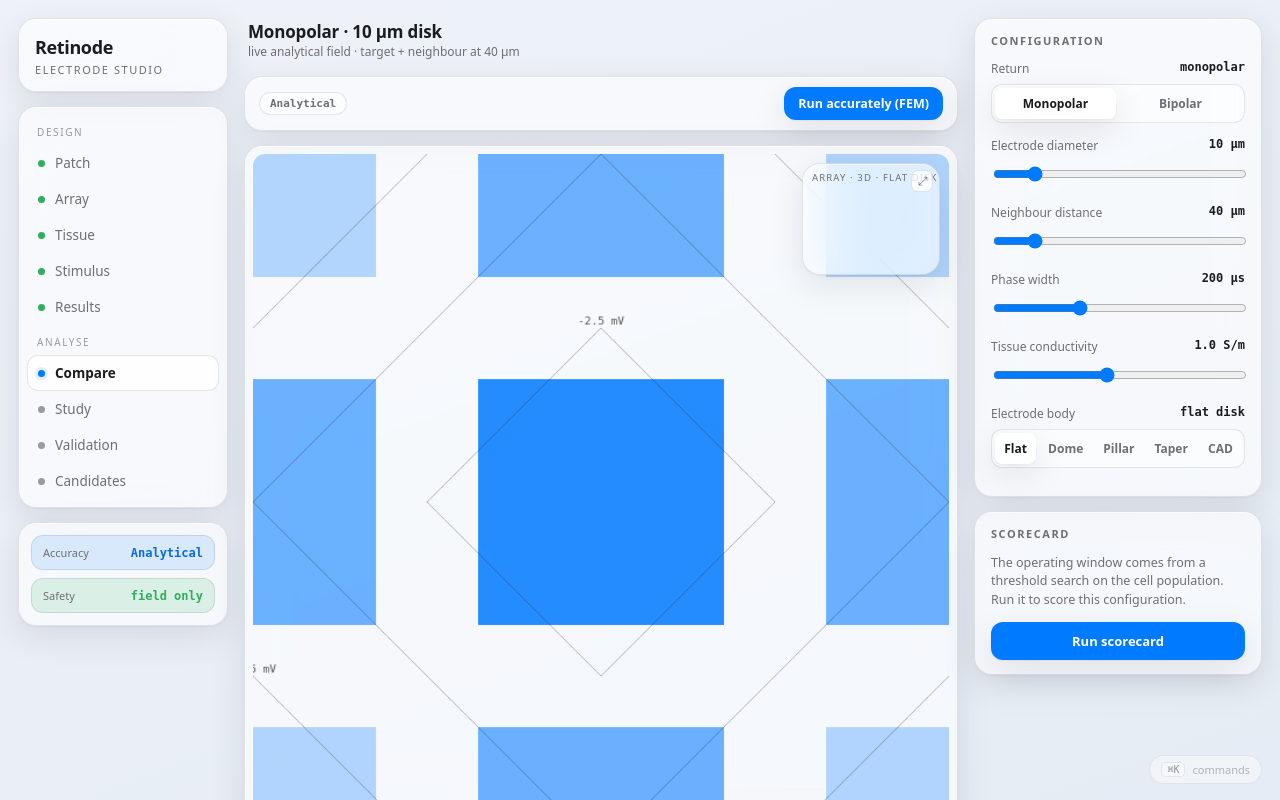
it: App navigation › carries a brushed subset of the sweep through to Candidates
Click the button "Study" at (123, 409), box [27,391,219,427]
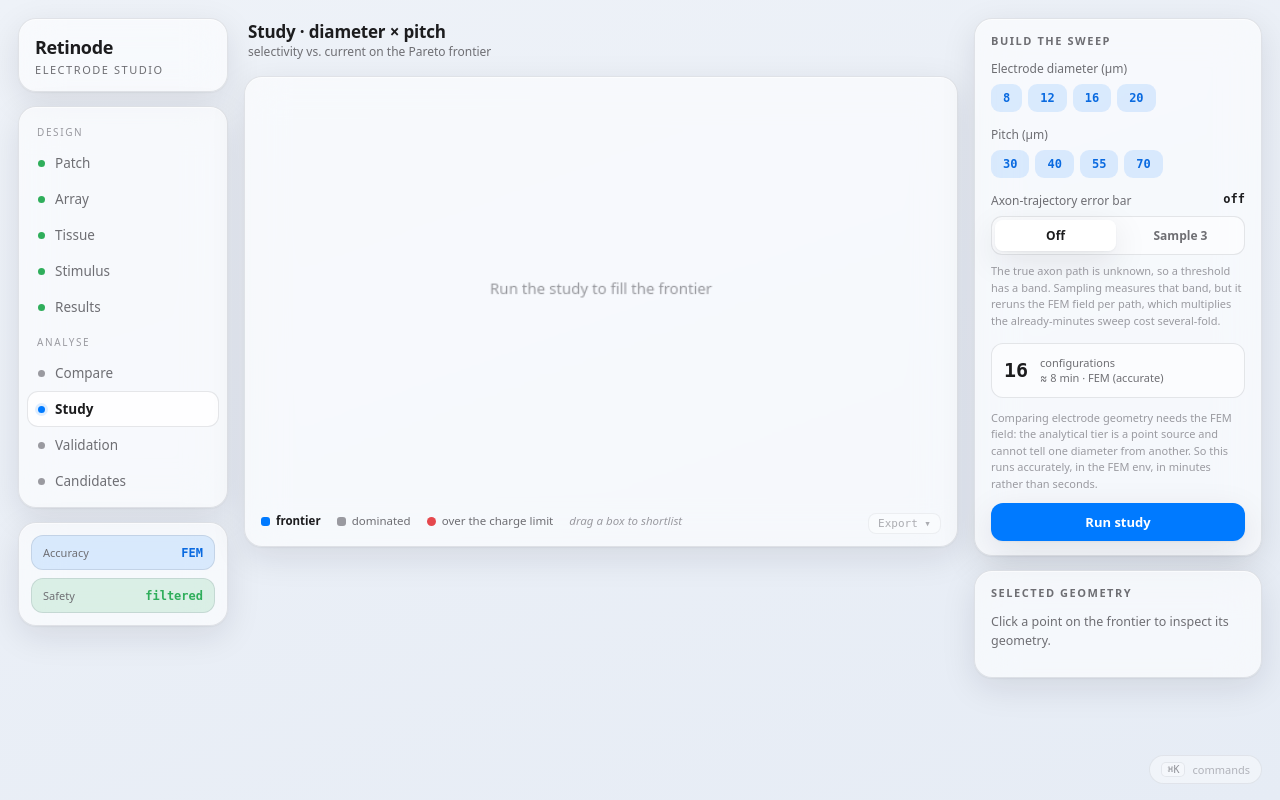
Click the button "Run study" at (1118, 522), box [991,503,1245,541]
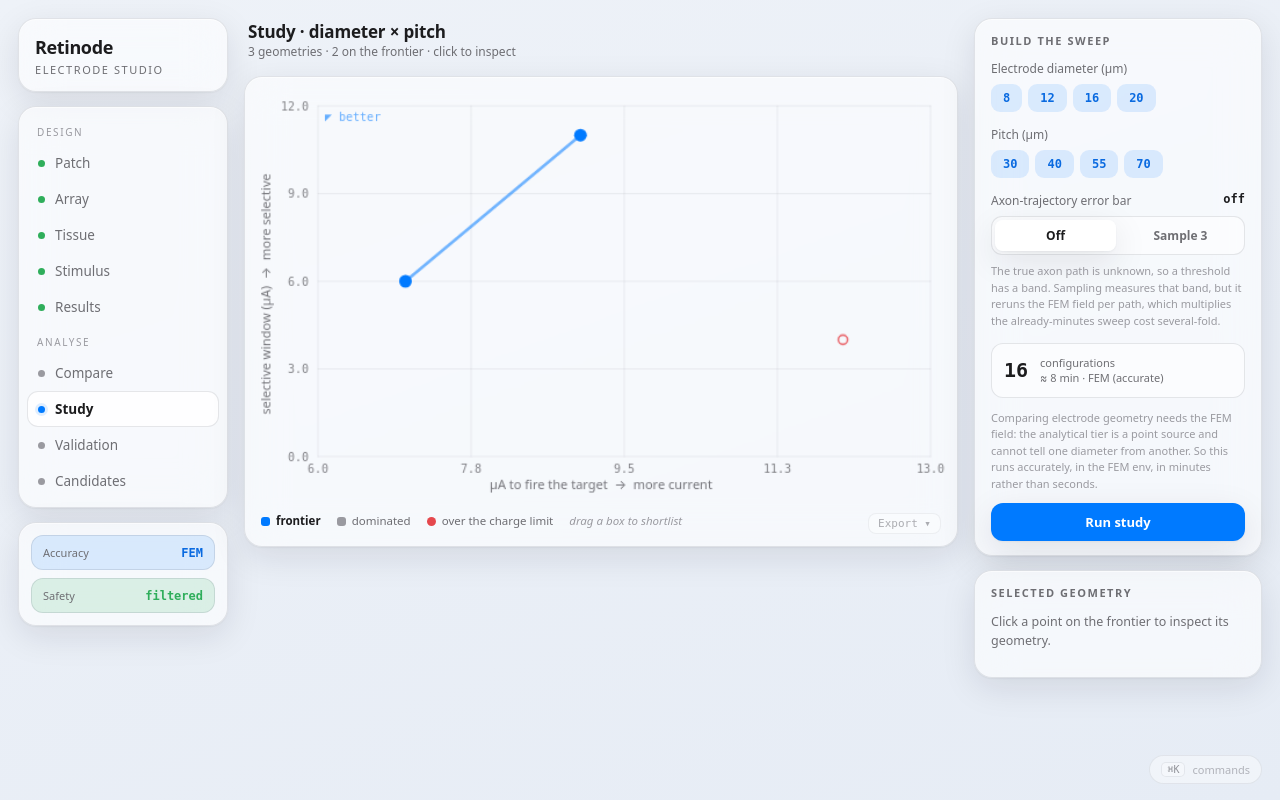
Result: the text "3 geometries · 2 on the frontier · click to inspect" is shown at [248,43,516,60]
Press the mouse on the drawing named "Pareto frontier" at (601, 294), box [253,85,949,503]
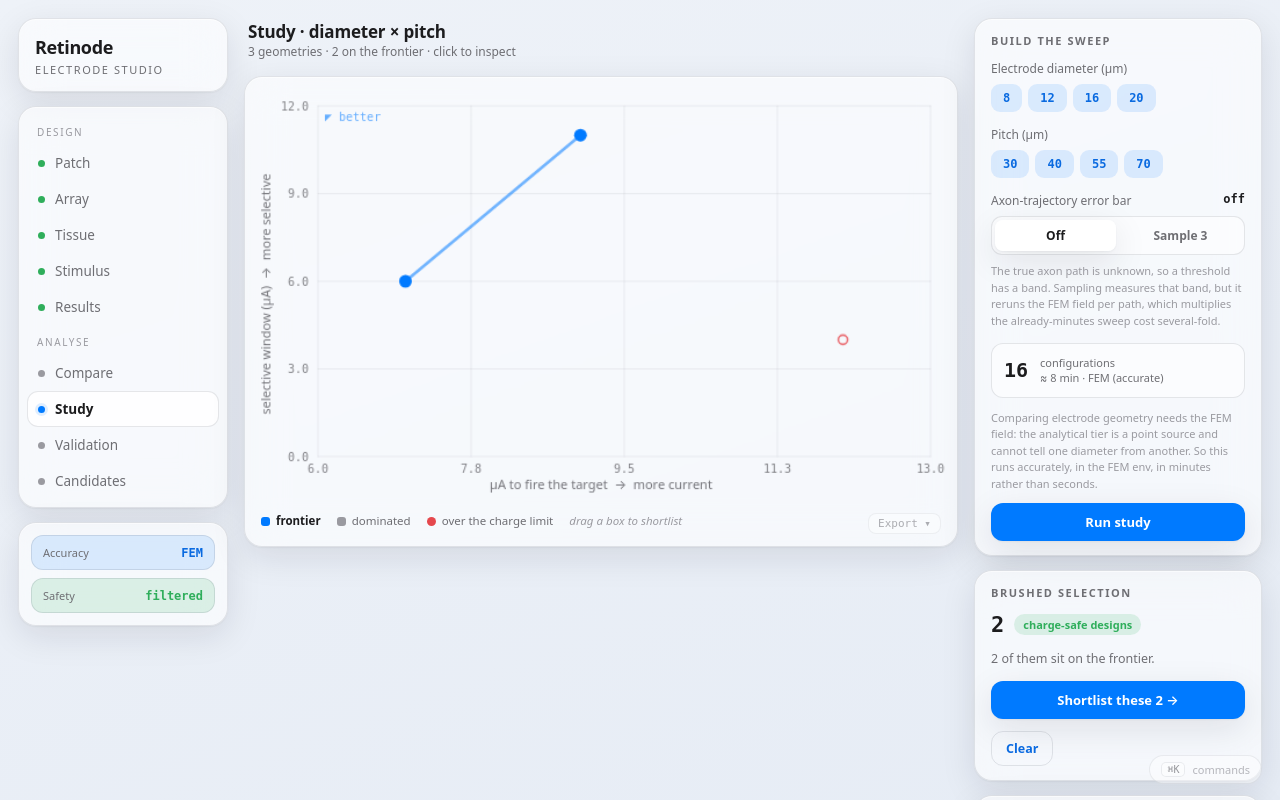
Result: the button "Shortlist these 2 →" is shown
Click the button "Shortlist these 2 →" at (1118, 700), box [991,681,1245,719]
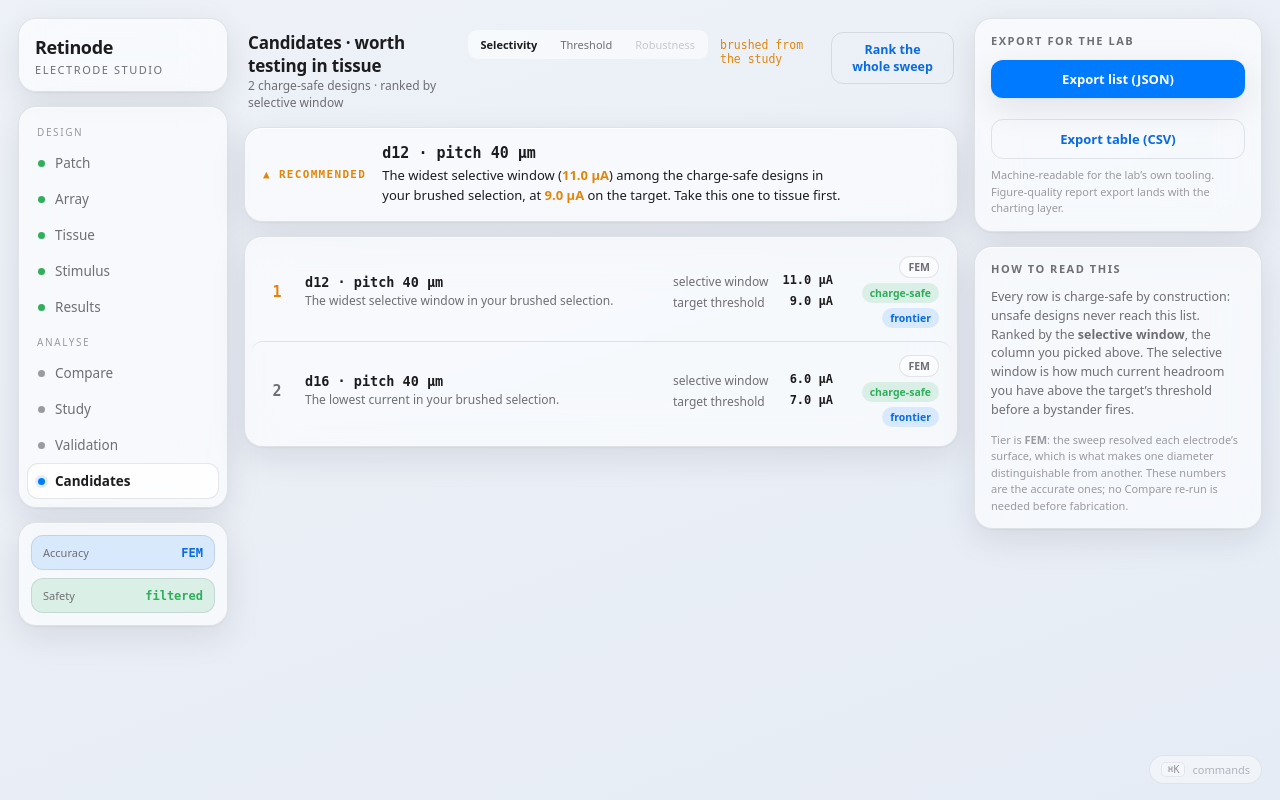
Result: the heading "Candidates · worth testing in tissue" is shown at [248,31,405,77]
Result: the text "brushed from the study" is shown at [720,38,803,66]
Result: the text "2 charge-safe designs · ranked by selective window" is shown at [248,77,456,111]
Click the button "Rank the whole sweep" at (893, 58), box [831,32,954,84]
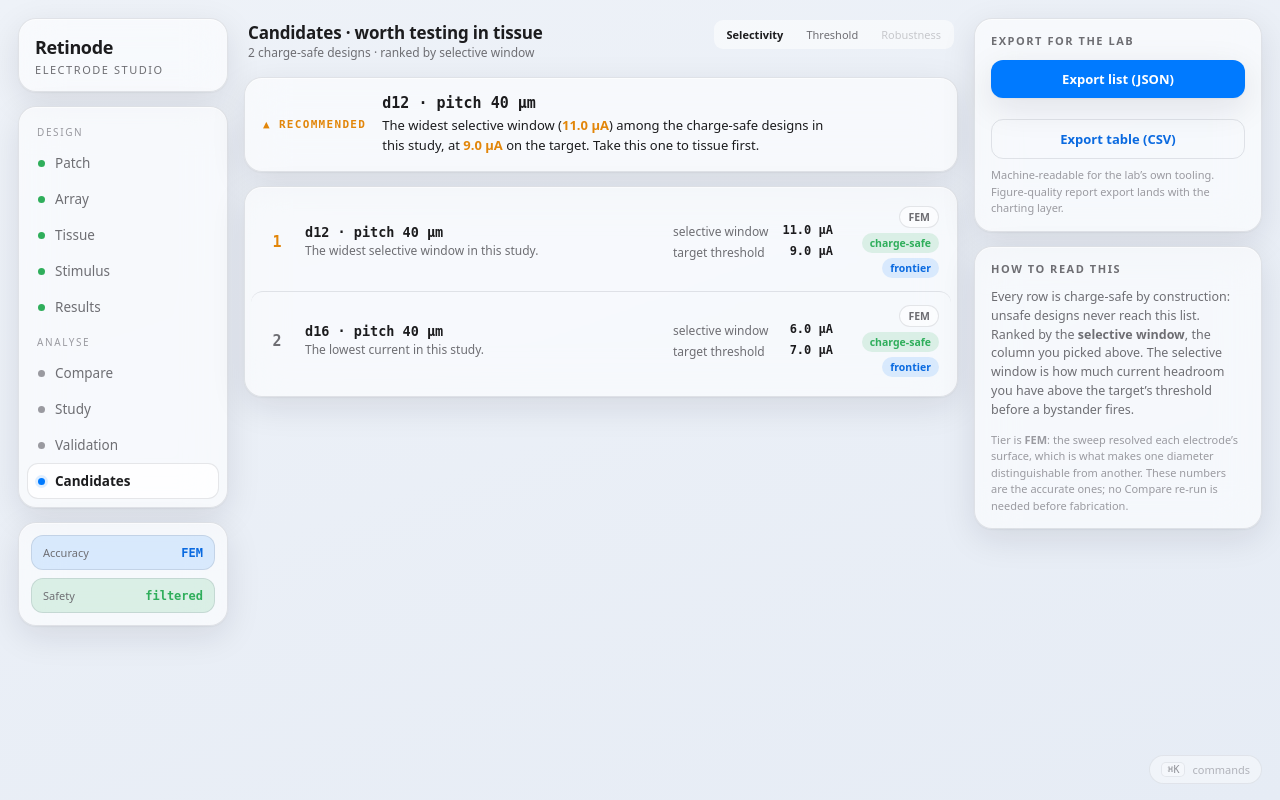
Result: the text "brushed from the study" is gone
